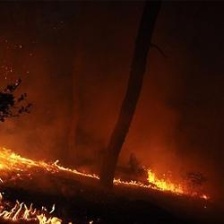fire: (1, 144, 216, 224)
